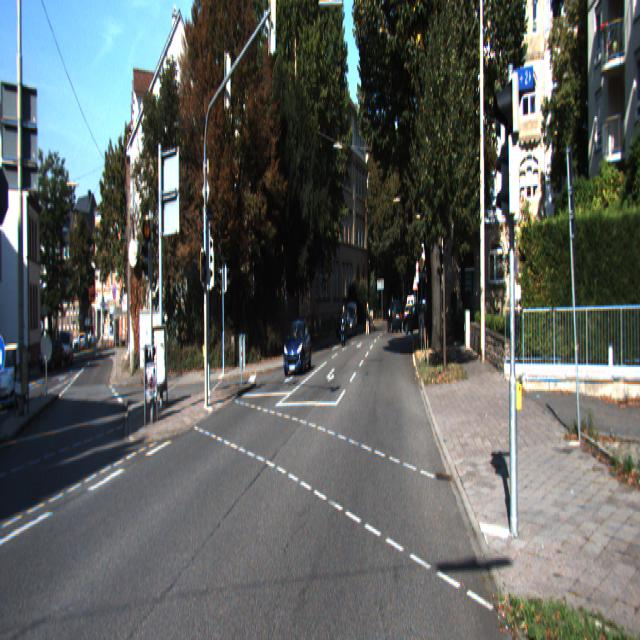Car: (282, 317, 313, 378), (340, 303, 347, 346)
